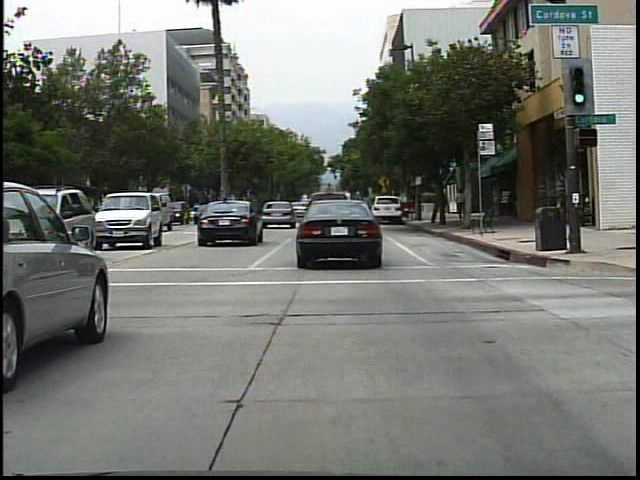person: (453, 185, 473, 224)
